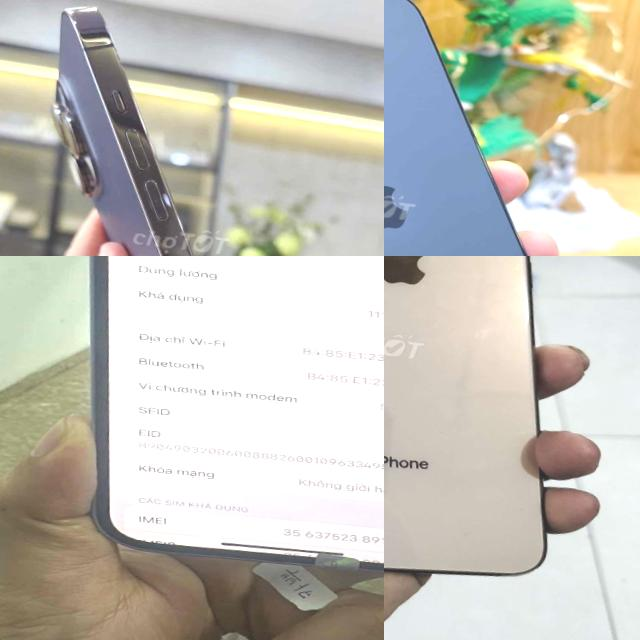gen_12_13: (39, 256, 384, 597)
gen_14: (0, 0, 370, 256), (384, 0, 617, 256)
gen_x_xs: (384, 256, 545, 574)
